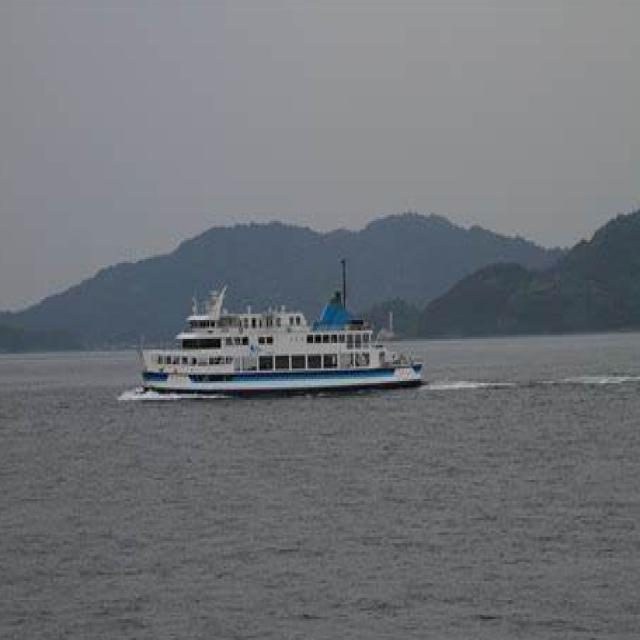houseboat: (105, 262, 428, 392)
